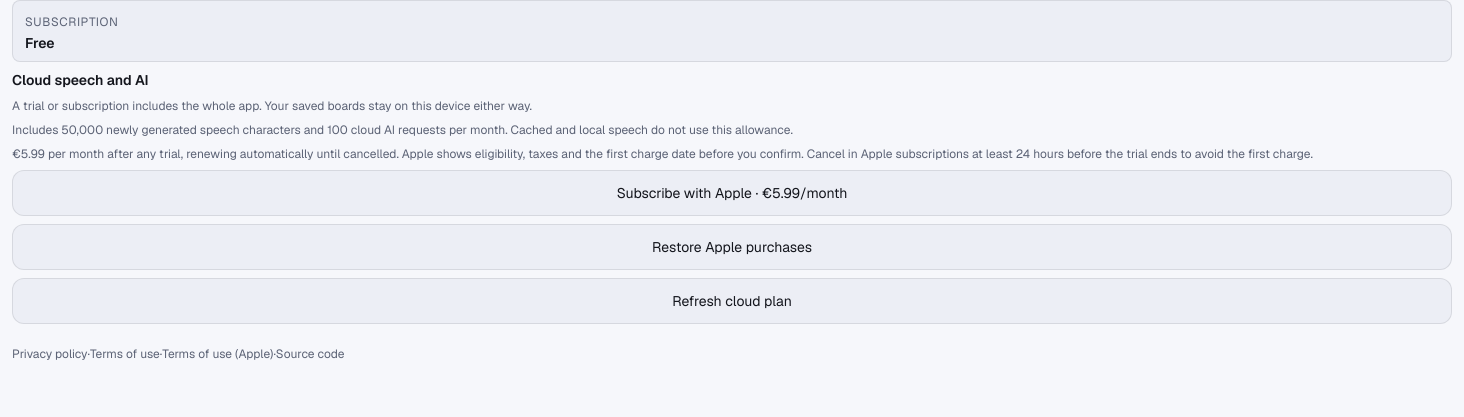
it: AAC account purchase settings › while the paid-only policy is in force, never promises free use
What coordinates should you click on to do the following:
click the button "Subscribe with Apple · €5.99/month"
I would click on:
 (732, 193)
Its box is [12,170,1452,216].
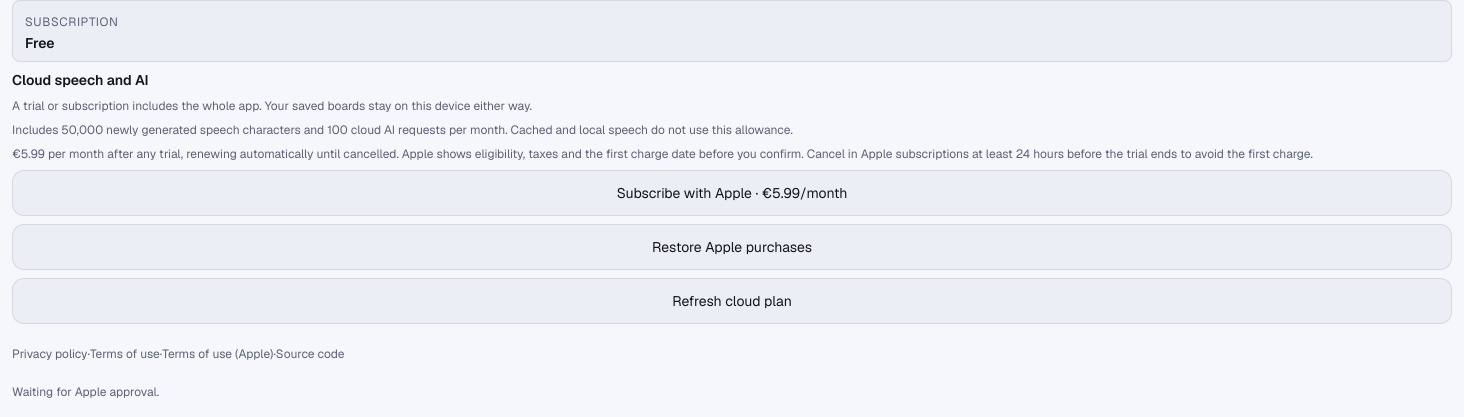
Expected: the text "A trial or subscription includes the whole app" is shown, [12,98,532,114]
Expected: the text "Waiting for Apple approval." is shown, [12,384,159,400]
